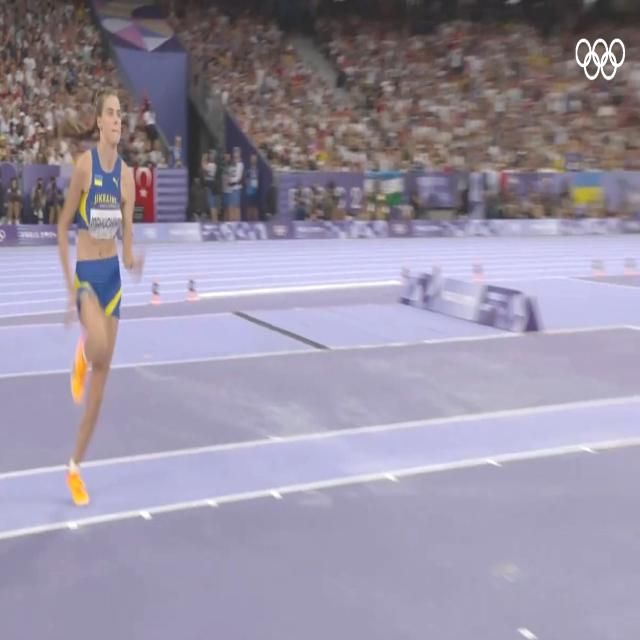run: (57, 89, 142, 509)
